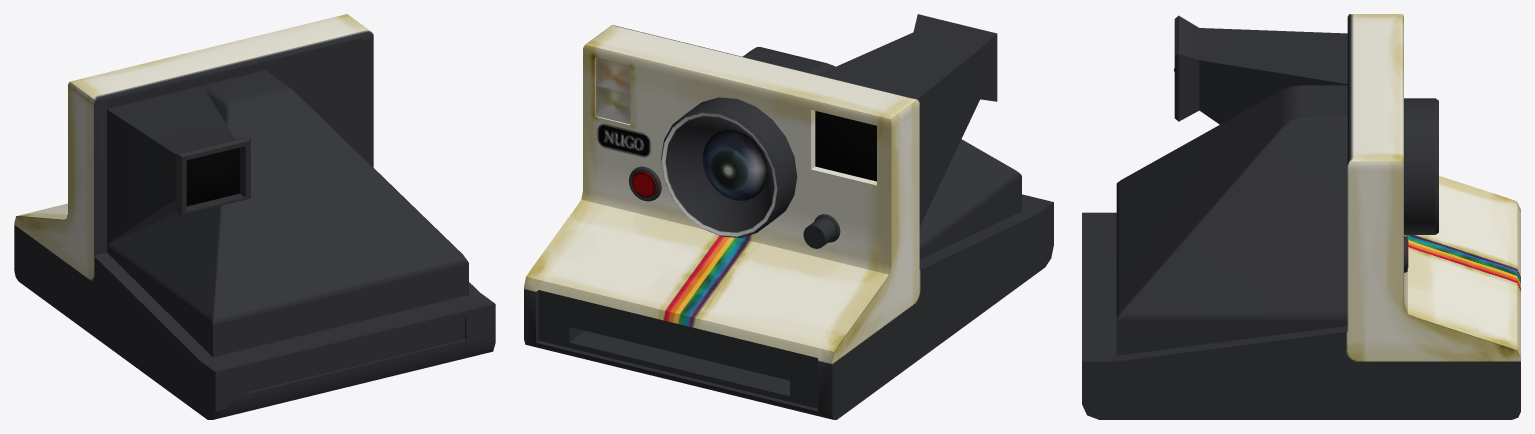
The model's file is Camera.fbx.
3 views of the same model, side by side, from view 1: azimuth 30°, elevation 25°; view 2: azimuth 150°, elevation 25°; view 3: azimuth 270°, elevation 25° (orthographic). The views are drawn at different scales.
Parts seen in each view (by area): view 1: pCylinder4; view 2: pCylinder4; view 3: pCylinder4.
Boxes of the visible parts, x1=… form: pCylinder4: x1=14, y1=14, x2=495, y2=419; pCylinder4: x1=524, y1=14, x2=1053, y2=419; pCylinder4: x1=1082, y1=14, x2=1520, y2=419.
Size of the model in its own units: 8.48 by 6.88 by 10.56.
Materials: 1 (1 with a texture image).
